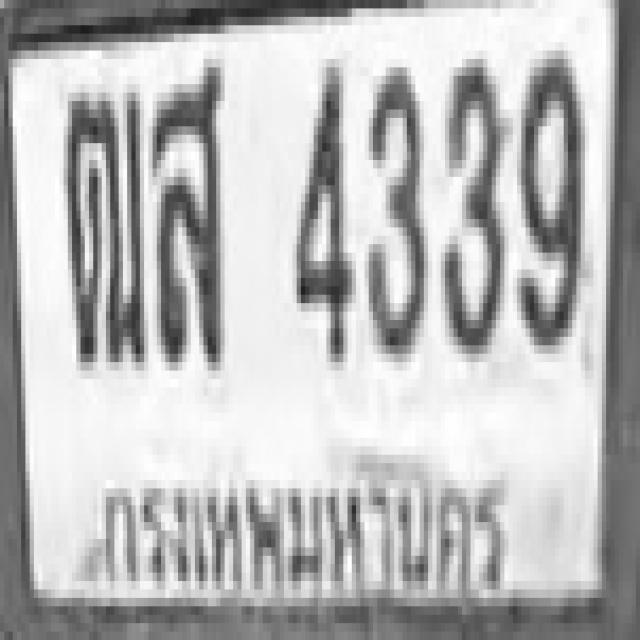3: (437, 51, 500, 345), (364, 59, 424, 345)
4: (292, 59, 348, 354)
9: (517, 42, 581, 345)
A18: (61, 84, 142, 362)
A40: (148, 59, 220, 362)
BKK: (91, 457, 512, 617)
